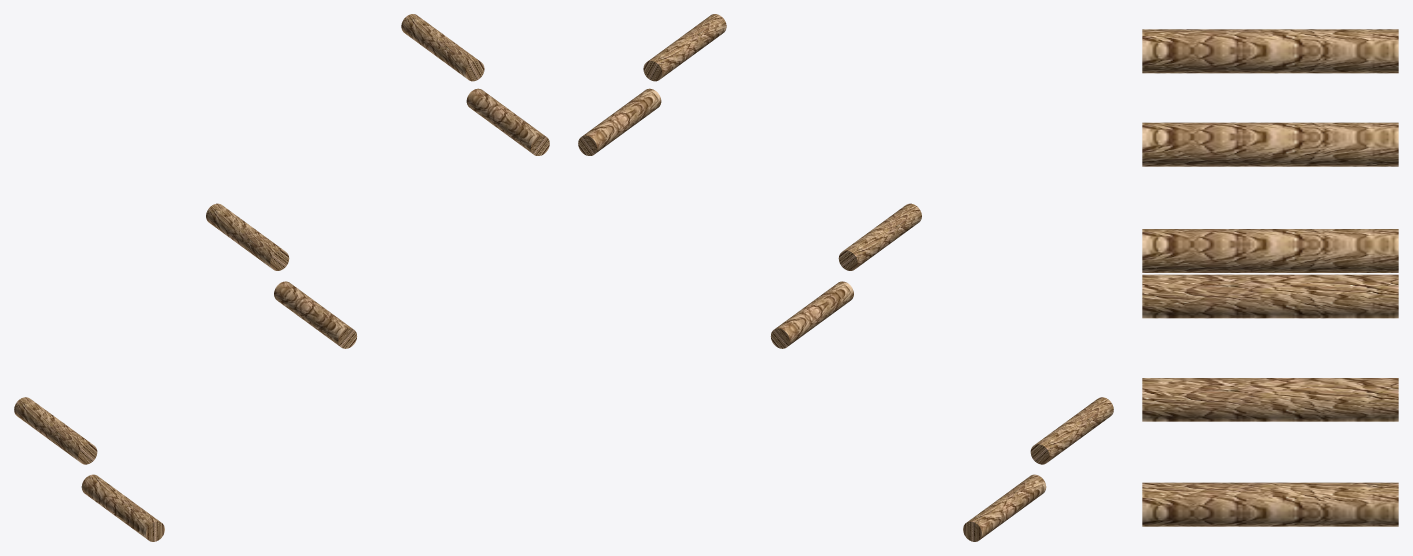
The model's file is ColumnasCantinas.obj.
The picture shows the model from 3 angles, left to right: view 1: azimuth 30°, elevation 25°; view 2: azimuth 150°, elevation 25°; view 3: azimuth 270°, elevation 25°; orthographic projection. The views are drawn at different scales.
Visible parts, largest first — view 1: Object.1, Object.4, Object.6, Object.2, Object.3, Object.5; view 2: Object.1, Object.4, Object.6, Object.2, Object.3, Object.5; view 3: Object.1, Object.2, Object.3, Object.6, Object.4, Object.5.
Part boxes in pixels (left/top/right/bottom): Object.1: left=401, top=14, right=484, bottom=81; Object.4: left=14, top=397, right=97, bottom=464; Object.6: left=206, top=203, right=289, bottom=270; Object.2: left=466, top=88, right=549, bottom=155; Object.3: left=81, top=474, right=164, bottom=541; Object.5: left=274, top=281, right=357, bottom=348; Object.1: left=643, top=14, right=726, bottom=81; Object.4: left=1030, top=397, right=1113, bottom=464; Object.6: left=838, top=203, right=921, bottom=270; Object.2: left=578, top=88, right=661, bottom=155; Object.3: left=963, top=474, right=1046, bottom=541; Object.5: left=770, top=281, right=853, bottom=348; Object.1: left=1142, top=29, right=1398, bottom=73; Object.2: left=1142, top=274, right=1398, bottom=318; Object.3: left=1142, top=482, right=1398, bottom=526; Object.6: left=1142, top=122, right=1398, bottom=166; Object.4: left=1142, top=229, right=1398, bottom=272; Object.5: left=1142, top=378, right=1398, bottom=421.
Size of the model in its own units: 14881 by 12139 by 3505.
Materials: 1 (1 with a texture image).
